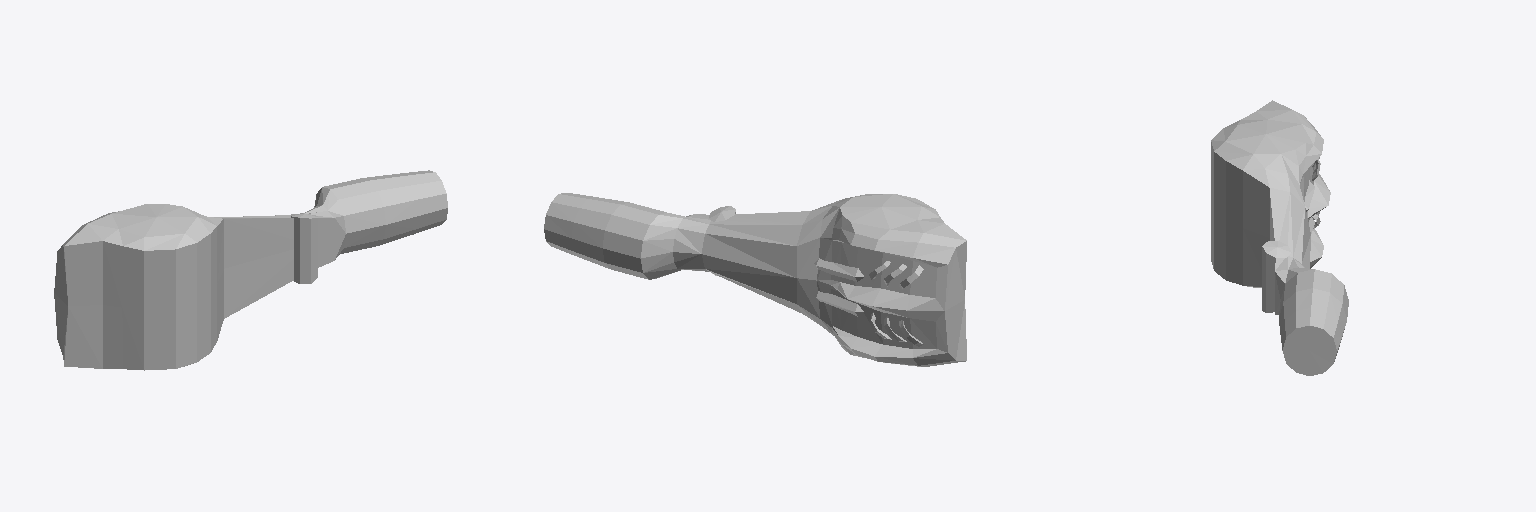
File: Grapple Beam.obj
3 views of the same model, side by side, from view 1: azimuth 30°, elevation 25°; view 2: azimuth 150°, elevation 25°; view 3: azimuth 270°, elevation 25° (orthographic).
Visible parts, largest first — view 1: 2d1e7a49_CMDL; view 2: 2d1e7a49_CMDL; view 3: 2d1e7a49_CMDL.
Part boxes in pixels (left/top/right/bottom): 2d1e7a49_CMDL: left=54, top=170, right=447, bottom=370; 2d1e7a49_CMDL: left=544, top=193, right=966, bottom=366; 2d1e7a49_CMDL: left=1211, top=100, right=1348, bottom=375.
Size of the model in its own units: 0.4086 by 0.1396 by 0.125.